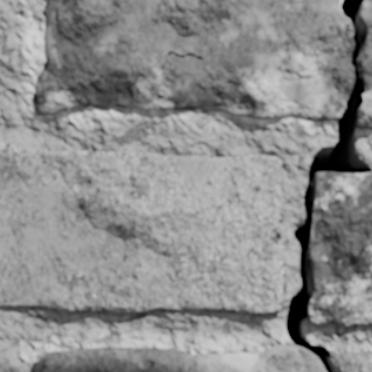brick: (0, 143, 285, 312), (308, 173, 371, 324)
broken_brick: (32, 0, 352, 121), (30, 344, 321, 371), (358, 0, 371, 127), (332, 351, 371, 371)
crack: (283, 0, 371, 371)
